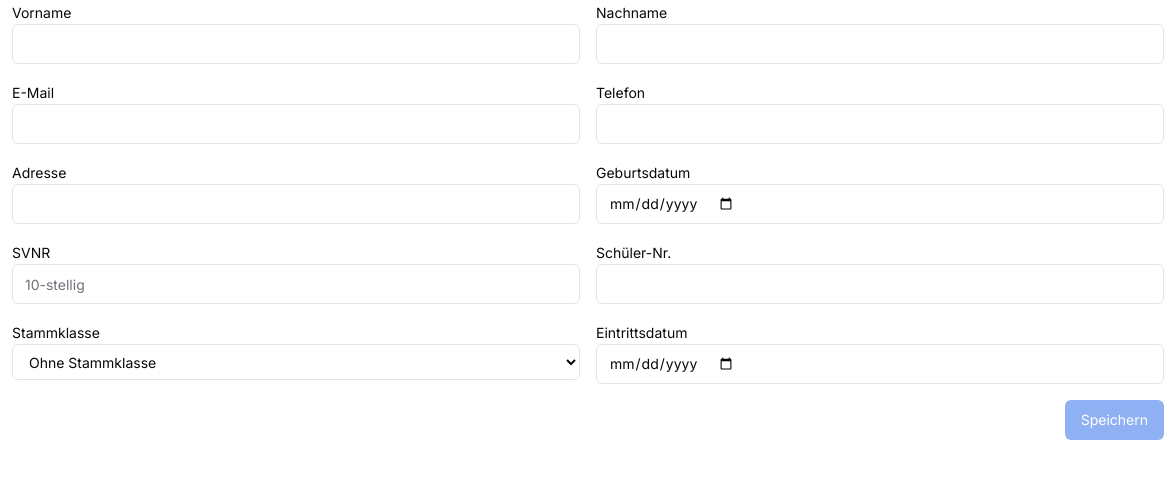
it: StudentStammdatenTab › blocks submit when lastName is empty (Pflichtfeld)
Type "Lisa" into the field labelled "Vorname" at (296, 44), box [12, 24, 580, 64]
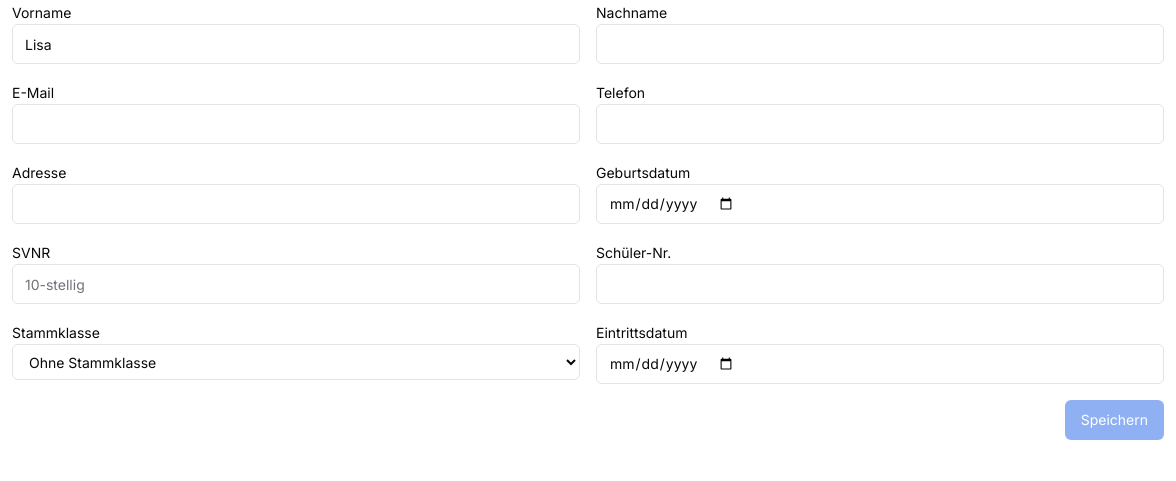
Note: lastName intentionally empty
Submit the form
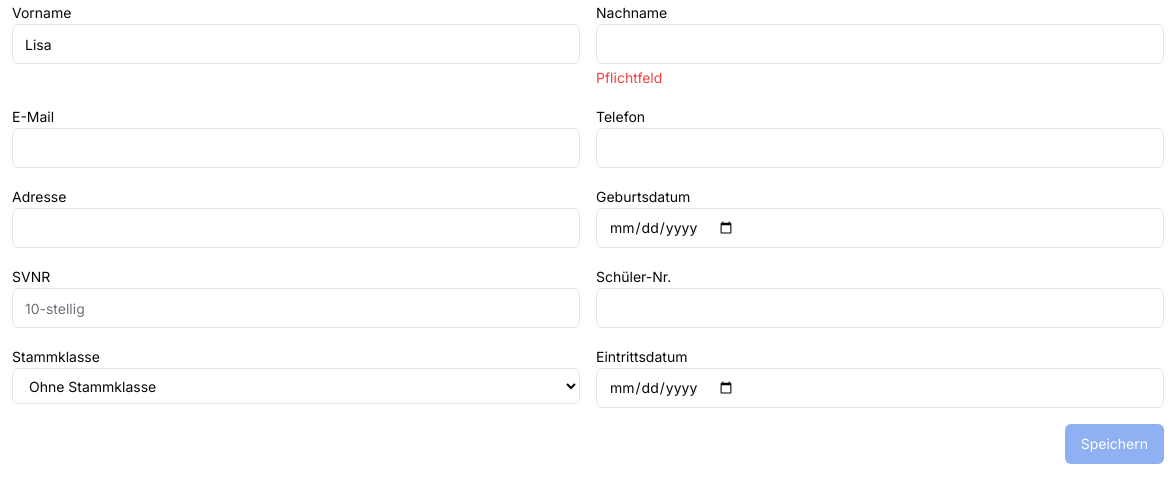
Result: the text "Pflichtfeld" is shown at [596, 69, 662, 86]
